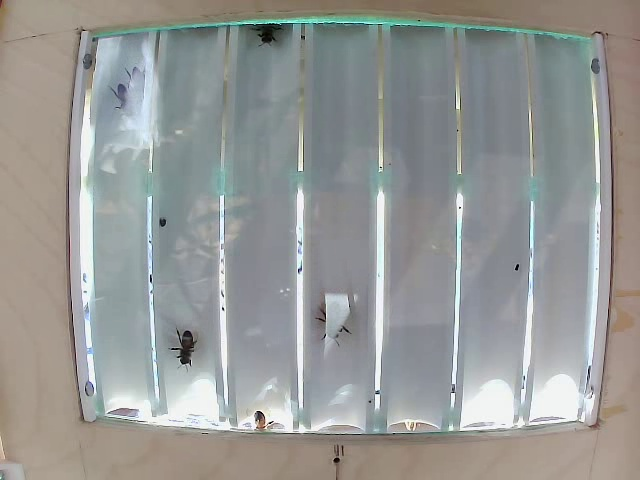bee: (320, 301, 372, 351), (261, 7, 309, 60), (102, 71, 151, 119), (156, 335, 202, 379)
